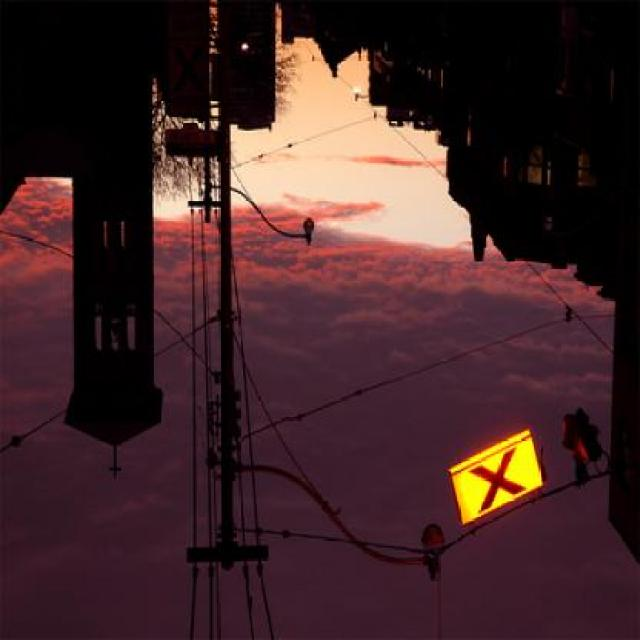pole: (180, 24, 262, 614)
